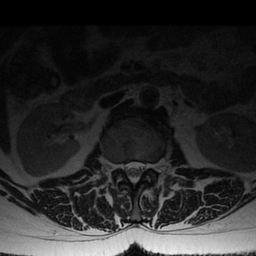CCS_normal: (129, 154, 137, 193)
LFS_stenosis: (146, 156, 153, 173)
LLS_normal: (137, 155, 145, 182)
RFS_stenosis: (115, 158, 123, 178)
RLS_normal: (123, 156, 130, 180)
